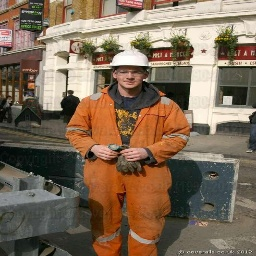helmet: (107, 49, 155, 70)
person: (55, 47, 205, 256)
vest: (64, 85, 194, 199)
